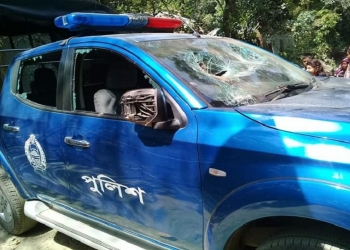policecar: (1, 11, 350, 250)
